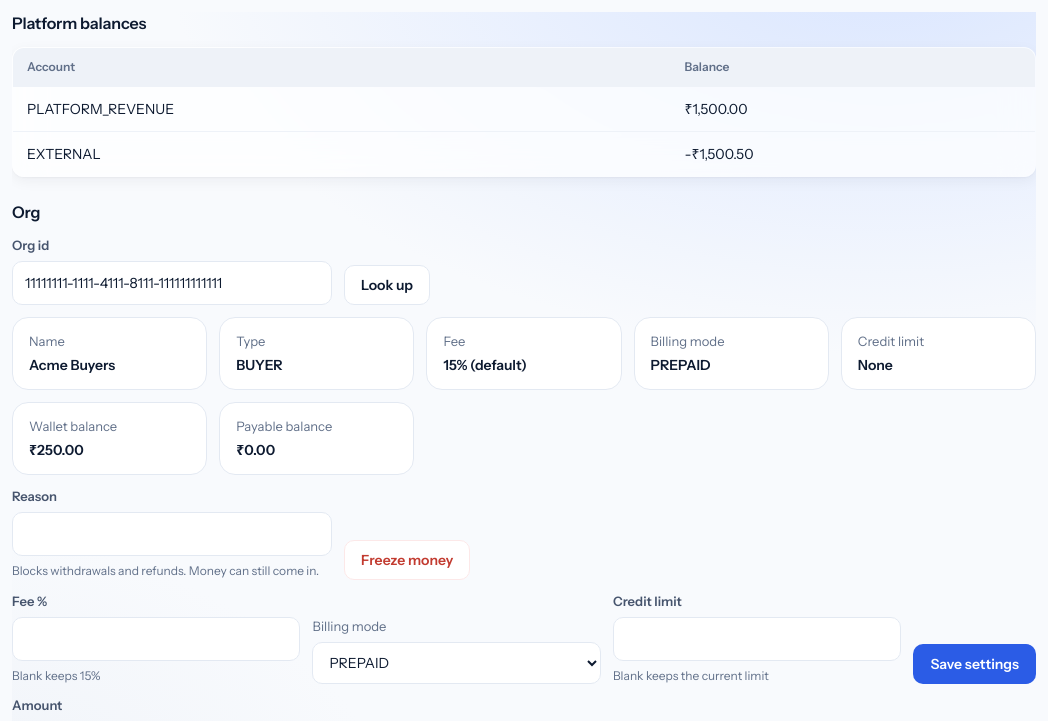
Scenario: posts the entered values through the action
In the number field labelled "Fee %": x=156, y=639 [12, 617, 300, 661], type "12.5"
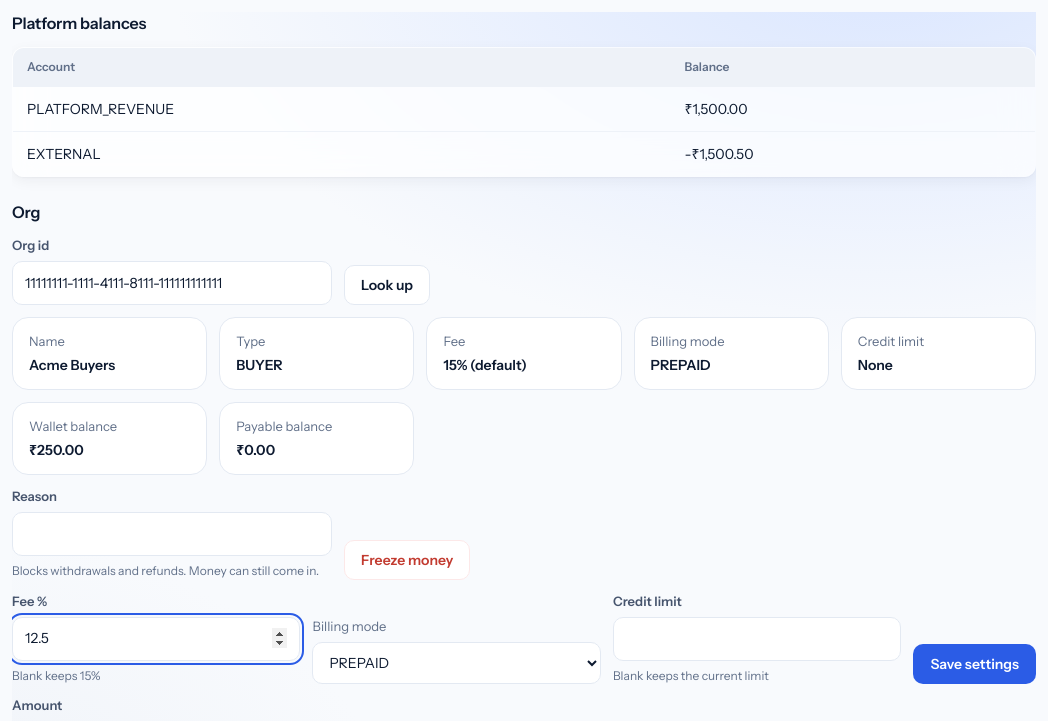
Select "POSTPAID" in the dropdown labelled "Billing mode": x=457, y=663 [312, 642, 601, 684]
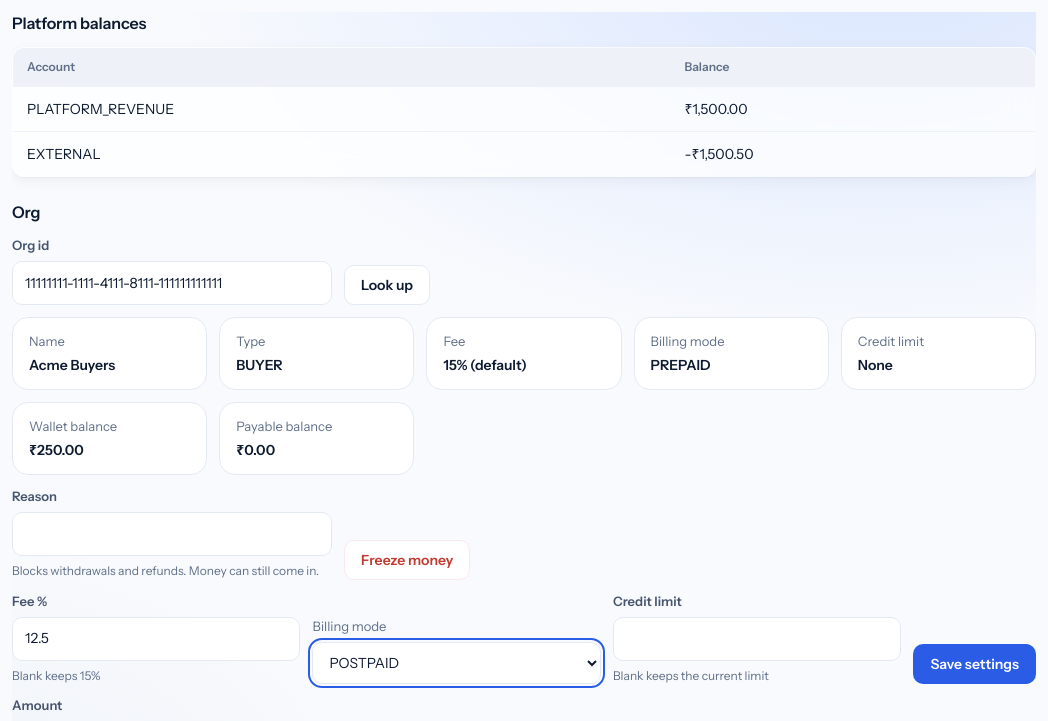
In the number field labelled "Credit limit": x=757, y=639 [613, 617, 902, 661], type "5000"
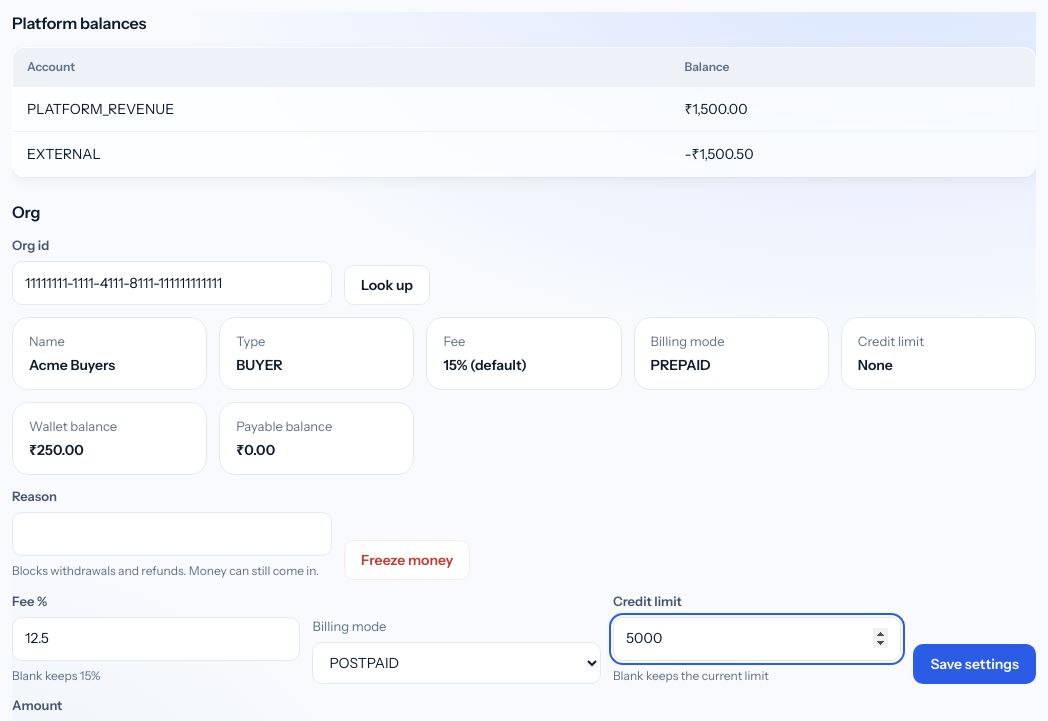
Click the button "Save settings": x=975, y=664 [914, 644, 1036, 684]
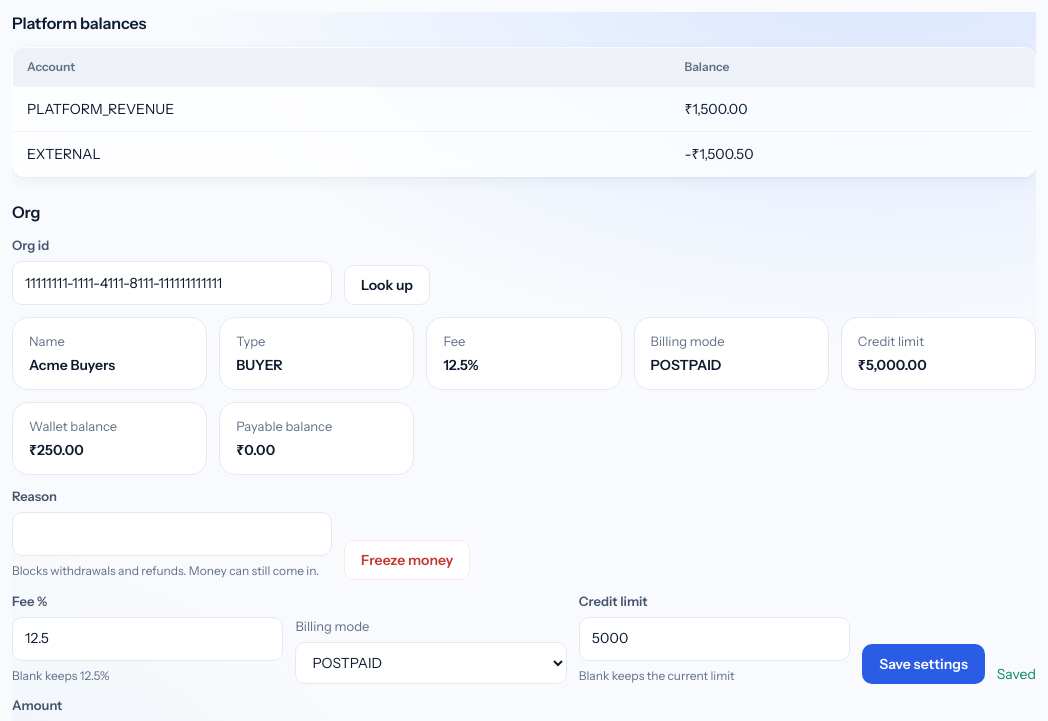
Expected: the text "Saved" is shown, [997, 664, 1036, 684]
